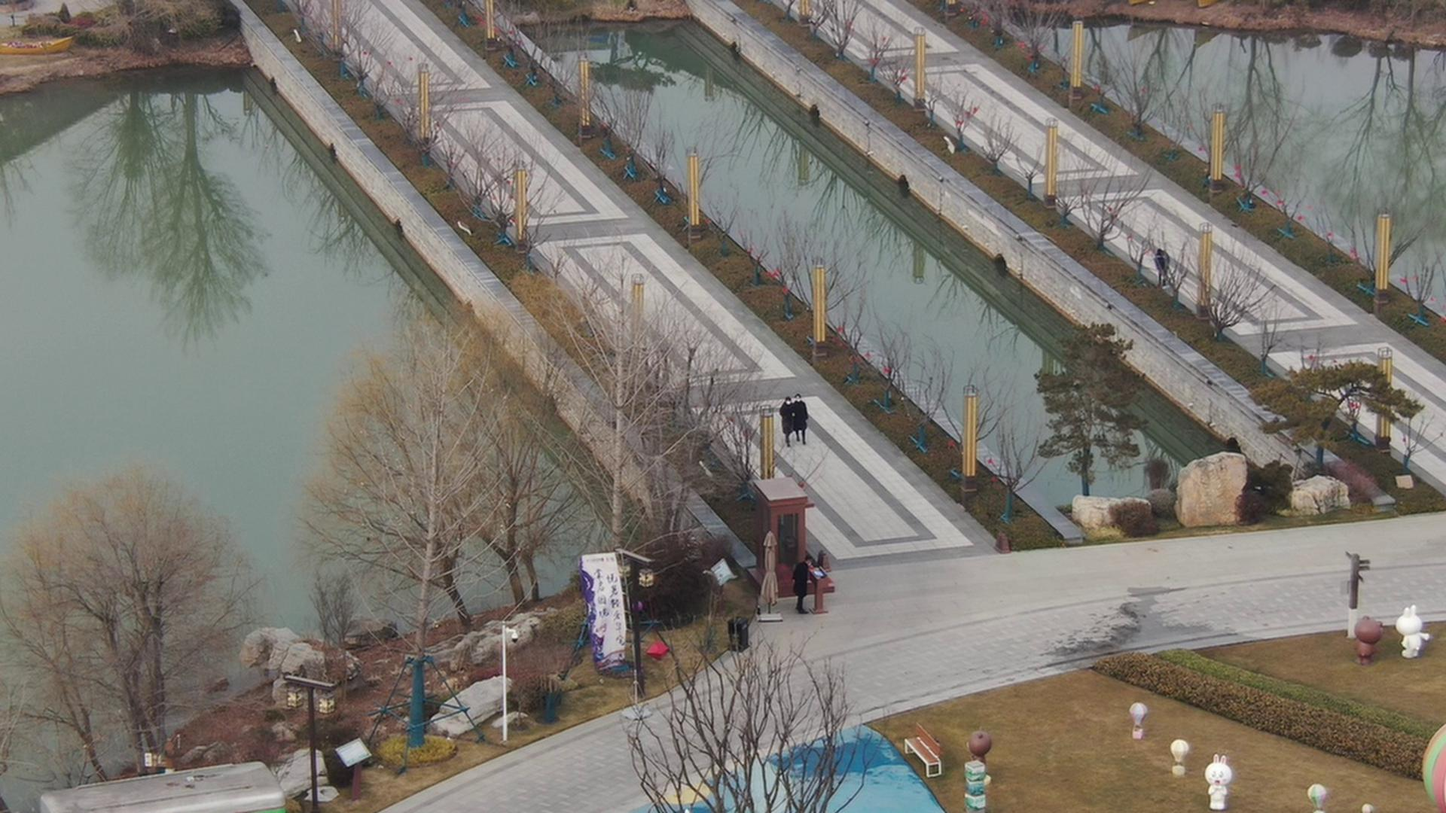class_2: (779, 389, 809, 446)
human: (786, 552, 818, 622)
